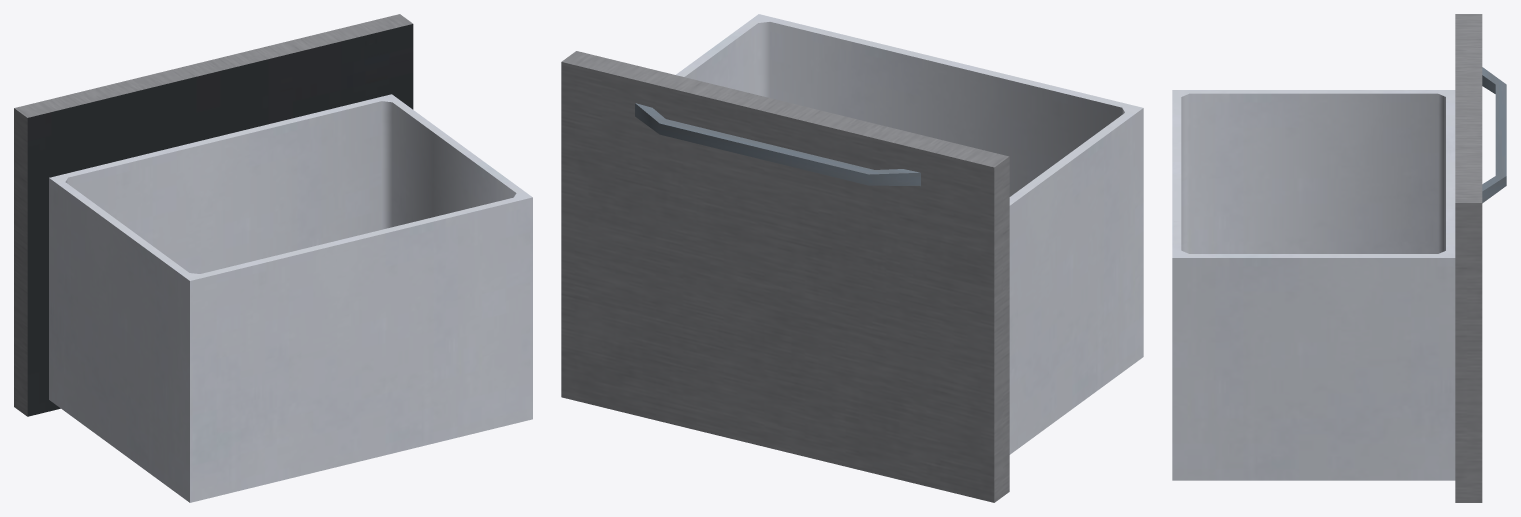
File: Refrigerator_drawer.glb
3 views of the same model, side by side, from view 1: azimuth 30°, elevation 25°; view 2: azimuth 150°, elevation 25°; view 3: azimuth 270°, elevation 25° (orthographic). The views are drawn at different scales.
Parts seen in each view (by area): view 1: Refrigerator_drawer; view 2: Refrigerator_drawer; view 3: Refrigerator_drawer.
Part boxes in pixels (x1,y1,x2,y2): Refrigerator_drawer: (14,14,532,502); Refrigerator_drawer: (561,14,1143,502); Refrigerator_drawer: (1172,14,1506,502).
Bounding box in the file's own units: 1.11 × 0.8186 × 0.8271.
Materials: 4 (4 with a texture image).
